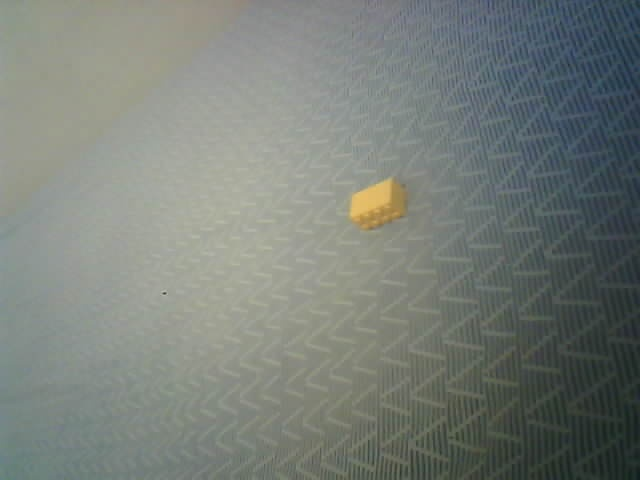lego: (348, 177, 406, 231)
